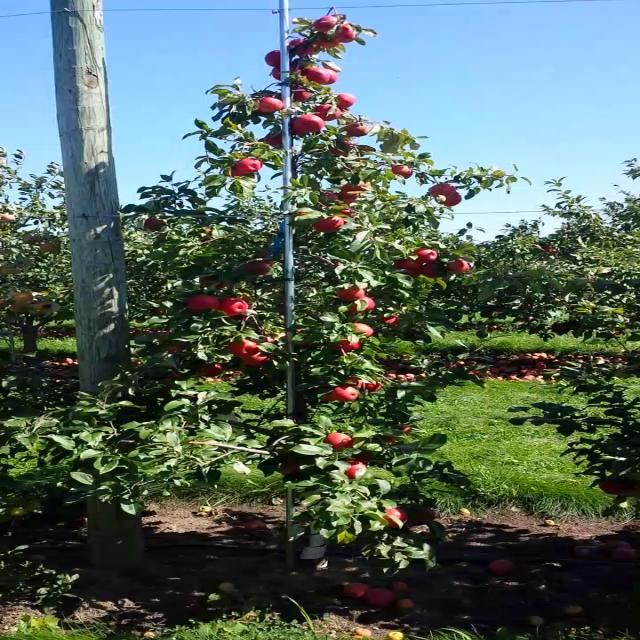apple: (224, 338, 260, 358), (216, 297, 249, 317), (292, 114, 324, 134), (185, 294, 219, 312), (391, 256, 424, 274), (313, 215, 345, 233), (322, 433, 354, 451), (298, 67, 328, 85), (255, 94, 285, 112), (598, 480, 636, 494), (381, 507, 406, 528), (270, 65, 302, 81), (334, 284, 366, 300), (312, 103, 340, 121), (314, 15, 341, 33), (343, 460, 367, 480), (289, 38, 315, 56), (240, 261, 271, 276), (409, 262, 437, 278), (349, 297, 377, 313), (242, 350, 270, 366), (334, 23, 356, 43), (198, 276, 228, 290), (327, 139, 353, 155), (236, 158, 262, 174), (410, 247, 436, 263), (426, 183, 457, 196), (334, 92, 356, 110), (195, 362, 223, 376), (332, 386, 358, 401), (290, 86, 314, 102), (350, 322, 374, 338), (344, 122, 371, 136), (446, 258, 470, 273), (440, 191, 462, 207), (319, 67, 338, 85), (338, 181, 372, 191), (319, 190, 340, 206), (315, 36, 342, 48), (391, 164, 413, 178), (251, 250, 273, 264), (336, 338, 359, 351), (264, 49, 280, 67), (10, 290, 34, 302), (339, 190, 359, 204), (342, 376, 363, 389), (379, 315, 398, 329), (260, 134, 282, 146), (30, 301, 52, 313), (9, 301, 31, 313), (280, 463, 303, 474), (144, 218, 165, 229), (230, 165, 247, 178), (361, 382, 383, 392), (250, 335, 276, 343), (1, 266, 20, 275), (351, 451, 370, 460), (165, 344, 182, 354), (338, 208, 356, 217), (278, 330, 291, 342), (39, 242, 56, 250), (2, 214, 18, 222), (198, 228, 214, 236), (400, 425, 412, 435), (383, 435, 398, 443), (324, 392, 336, 401), (21, 235, 32, 243)
